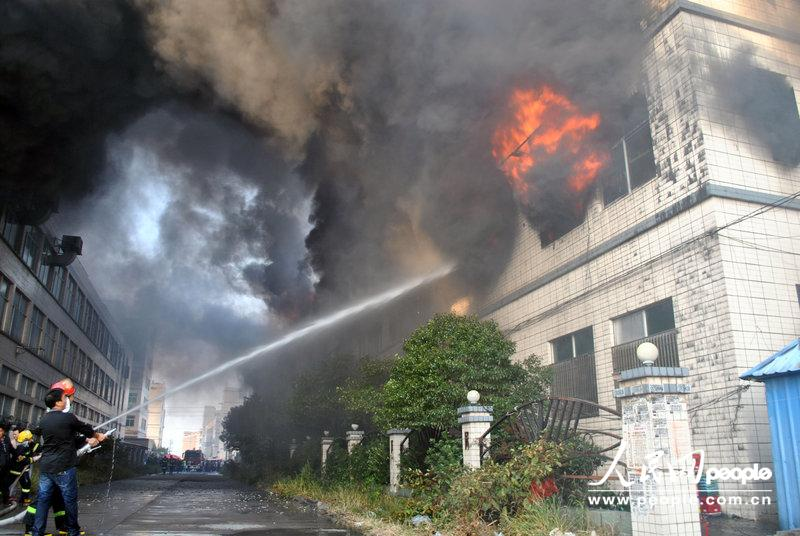fire: (473, 65, 621, 221)
